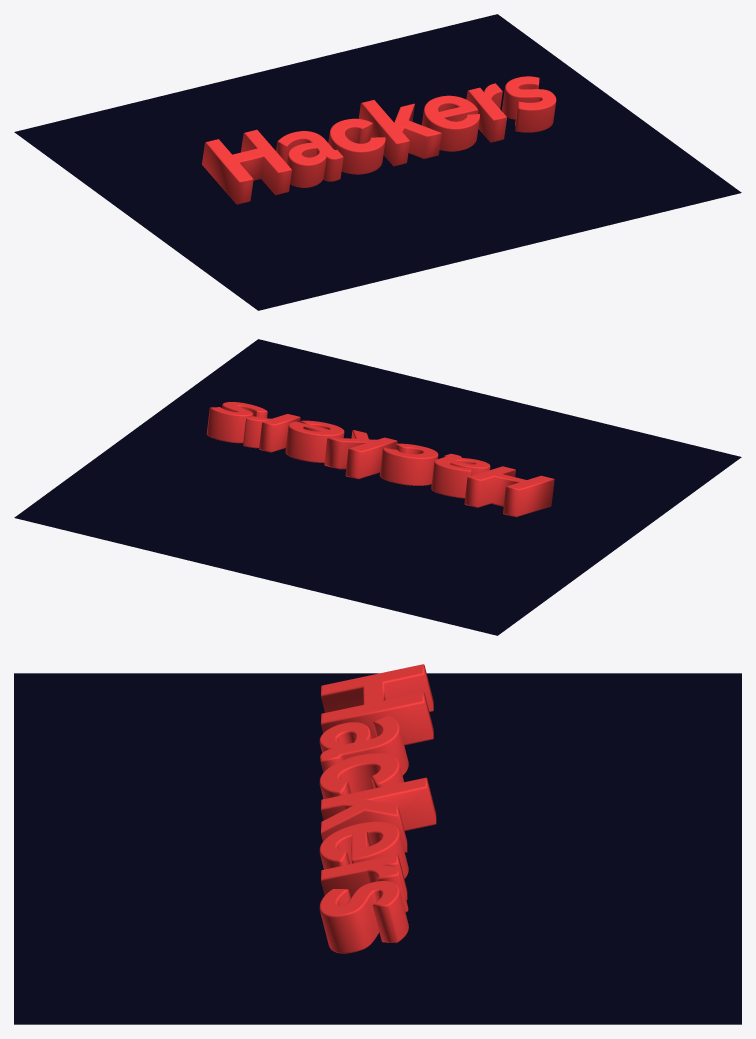
Rendered from hackers9.obj.
3 renders of one model, top to bottom at view 1: azimuth 30°, elevation 25°; view 2: azimuth 150°, elevation 25°; view 3: azimuth 270°, elevation 25°, orthographic. The views are drawn at different scales.
Parts seen in each view (by area): view 1: Plane, Hackers; view 2: Plane, Hackers; view 3: Plane, Hackers.
Part boxes in pixels (left/top/right/bottom): Plane: left=14, top=14, right=741, bottom=310; Hackers: left=202, top=76, right=556, bottom=204; Plane: left=14, top=339, right=741, bottom=635; Hackers: left=206, top=402, right=554, bottom=517; Plane: left=14, top=673, right=741, bottom=1024; Hackers: left=319, top=664, right=436, bottom=953.
Bounding box in the file's own units: 6.34 × 0.6001 × 5.55.
